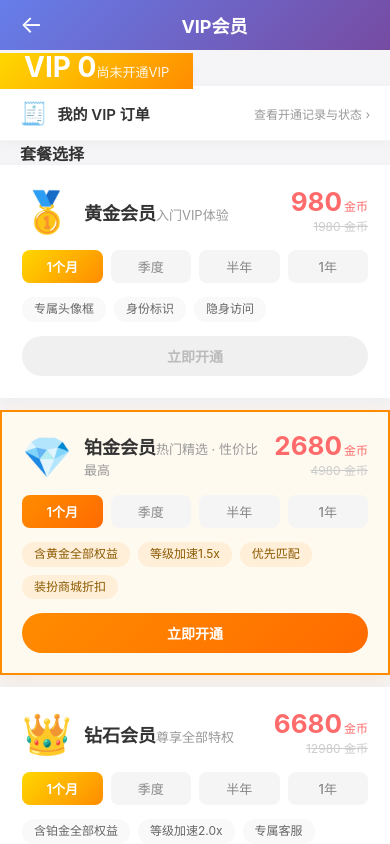
Test: VipCenter VIP 订单记录 › 待支付订单可主动刷新状态，成功后同步会员信息与本地资料
Click the element with class "orders-entry".
click(195, 114)  # box [0, 86, 389, 141]
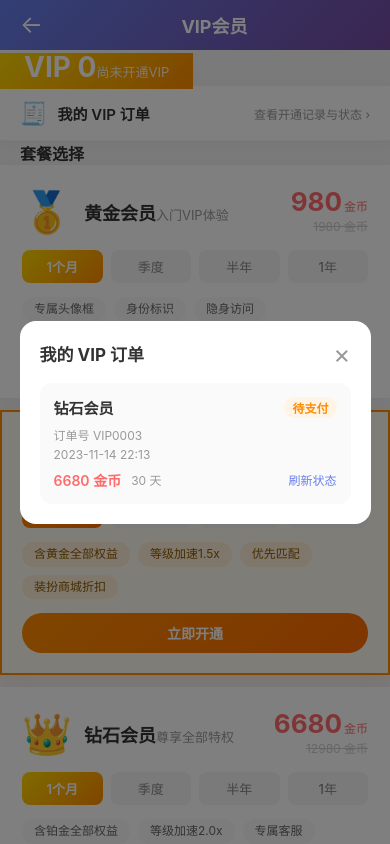
Check: the text "刷新状态" is shown
Click the text with class "order-refresh".
click(312, 480)  # box [288, 471, 336, 488]
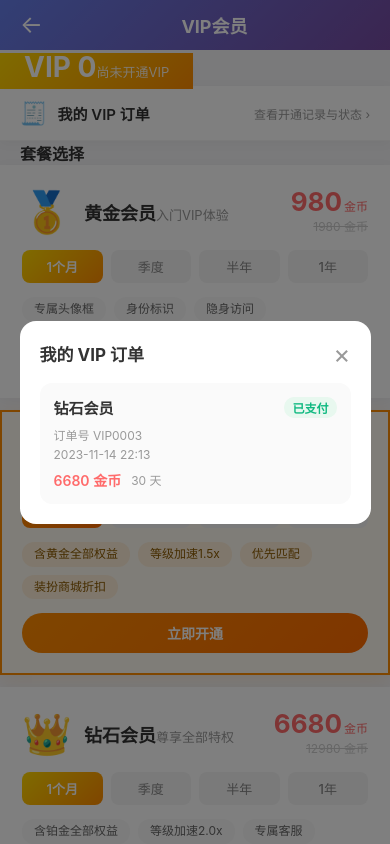
Check: the element with class "order-item" shows "已支付", box [292, 400, 328, 416]
